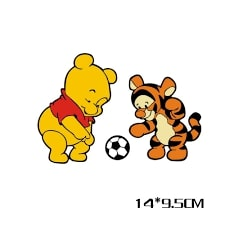Winnie: (51, 47, 120, 128)
